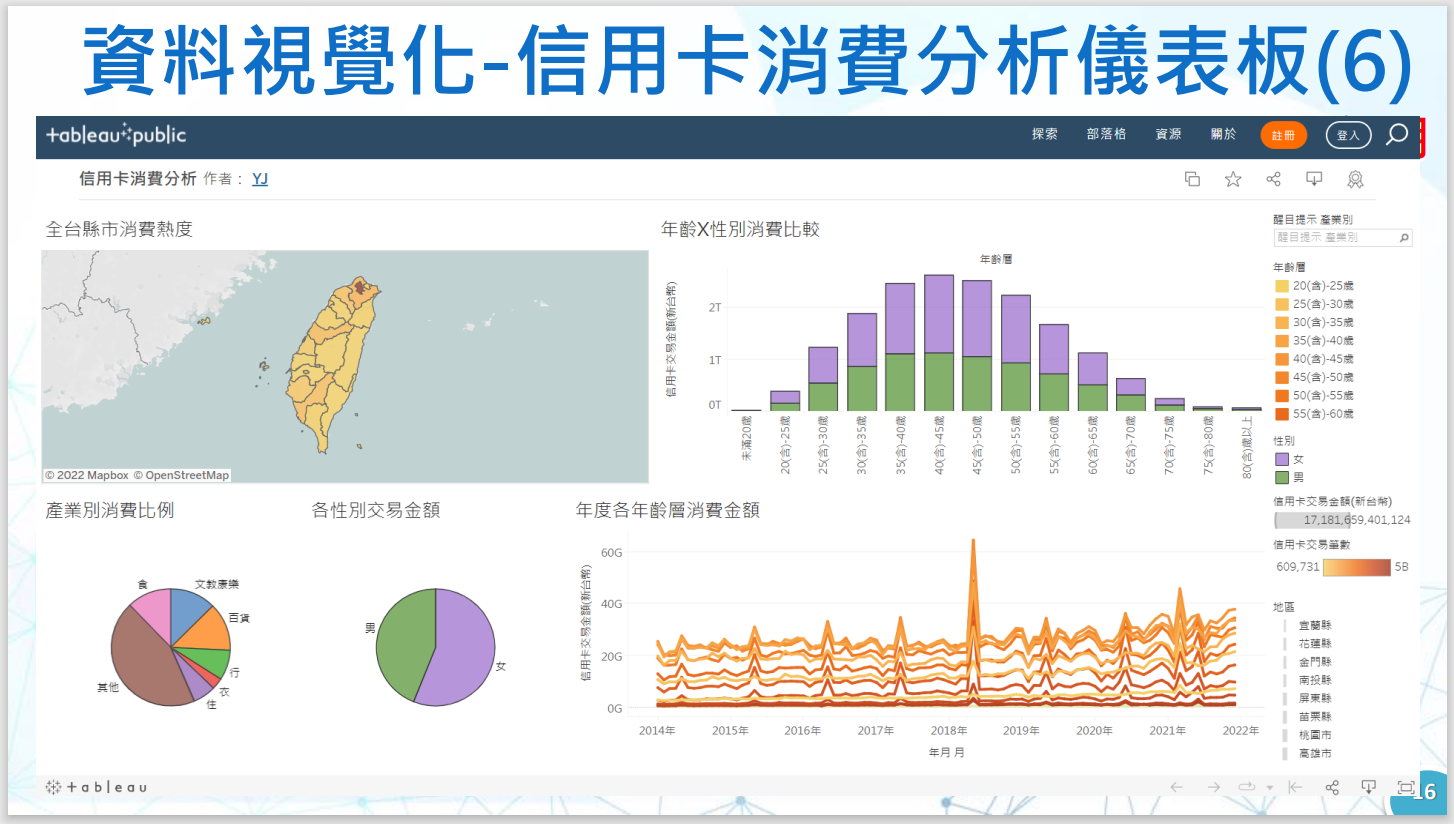

This screenshot's page, from the dashboard's own definition file:
{"tool":"tableau","page":{"name":"儀表板窗格 1","canvas":[1000,1000],"units":"permille","ordinal":0},"visuals":[{"type":"worksheet","title":"全台縣市消費熱度","mark":"Multipolygon","box":[4.8,9.4,446.9,490.6]},{"type":"worksheet","title":"年齡X性別消費比較","mark":"Automatic","rows":["信用卡交易金額(新台幣)"],"cols":["年齡層"],"box":[451.7,9.4,446.9,490.6]},{"type":"highlighter","title":"產業別消費比例","param":"[federated.0g2oetc1v2s88r16os5ns0wi0wuw].[none:產業別:nk]","box":[898.6,9.4,96.6,65.7]},{"type":"legend","title":"年度各年齡層消費金額","param":"[federated.0g2oetc1v2s88r16os5ns0wi0wuw].[none:年齡層:nk]","box":[898.6,75.1,96.6,342.7]},{"type":"legend","title":"年齡X性別消費比較","param":"[federated.0g2oetc1v2s88r16os5ns0wi0wuw].[none:性別:nk]","box":[898.6,417.8,96.6,84.5]},{"type":"worksheet","title":"產業別消費比例","mark":"Pie","box":[4.8,500,192.8,490.6]},{"type":"worksheet","title":"各性別交易金額","mark":"Pie","box":[197.6,500,192.2,490.6]},{"type":"worksheet","title":"年度各年齡層消費金額","mark":"Automatic","rows":["信用卡交易金額(新台幣)"],"cols":["年月"],"box":[389.8,500,508.8,490.6]},{"type":"legend","title":"各性別交易金額","param":"[federated.0g2oetc1v2s88r16os5ns0wi0wuw].[sum:信用卡交易金額(新台幣):qk]","box":[898.6,502.4,96.6,59.9]},{"type":"legend","title":"全台縣市消費熱度","param":"[federated.0g2oetc1v2s88r16os5ns0wi0wuw].[sum:信用卡交易金額(新台幣):qk]","box":[898.6,562.2,96.6,85.7]},{"type":"legend","title":"全台縣市消費熱度","param":"[federated.0g2oetc1v2s88r16os5ns0wi0wuw].[none:地區:nk]","box":[898.6,647.9,96.6,342.7]}]}

Visuals, with their boxes on the dashboard's canvas, which has no fixed pixel size, in thousandths of its width and height (x1, y1, x2, y2). These are canvas units, not pixel positions in the 1454x824 screenshot, which may show the page scaled, cropped or inside an application window:
"全台縣市消費熱度" worksheet (Multipolygon marks): bbox=[5, 9, 452, 500]
"年齡X性別消費比較" worksheet: bbox=[452, 9, 899, 500]
"產業別消費比例" highlighter: bbox=[899, 9, 995, 75]
"年度各年齡層消費金額" legend: bbox=[899, 75, 995, 418]
"年齡X性別消費比較" legend: bbox=[899, 418, 995, 502]
"產業別消費比例" worksheet (Pie marks): bbox=[5, 500, 198, 991]
"各性別交易金額" worksheet (Pie marks): bbox=[198, 500, 390, 991]
"年度各年齡層消費金額" worksheet: bbox=[390, 500, 899, 991]
"各性別交易金額" legend: bbox=[899, 502, 995, 562]
"全台縣市消費熱度" legend: bbox=[899, 562, 995, 648]
"全台縣市消費熱度" legend: bbox=[899, 648, 995, 991]
